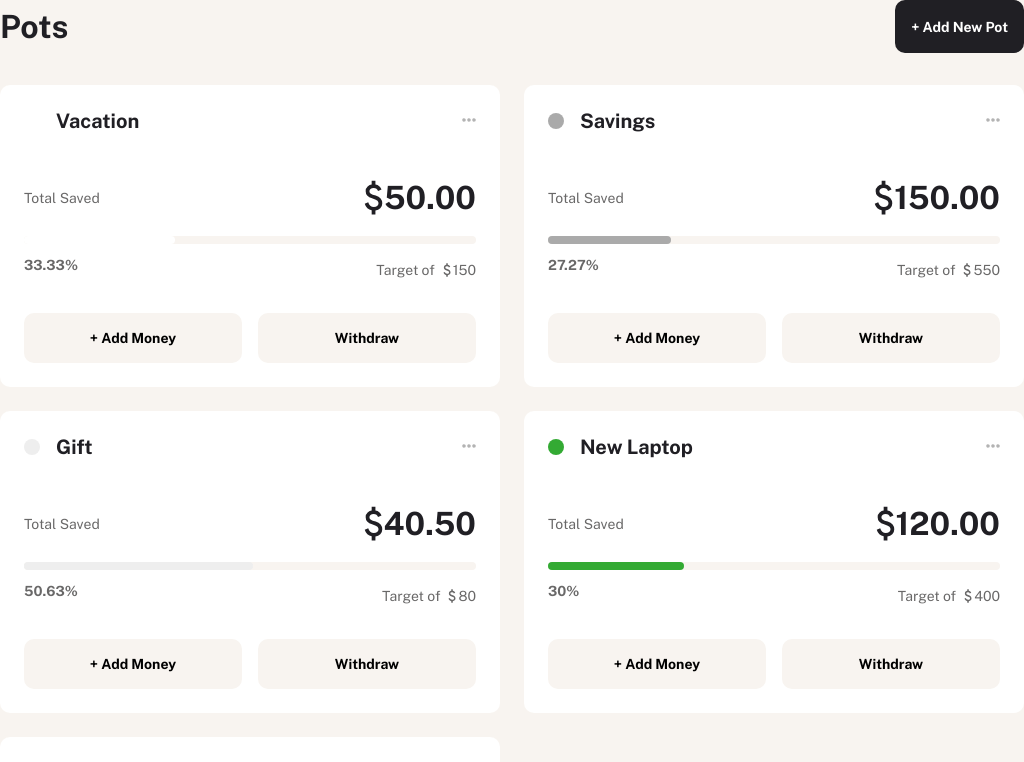
Test: pot component tests › test clicking new pot button displays new pot form
Click the button with test id "new-btn": (960, 26) 895,0 -> 1023,53
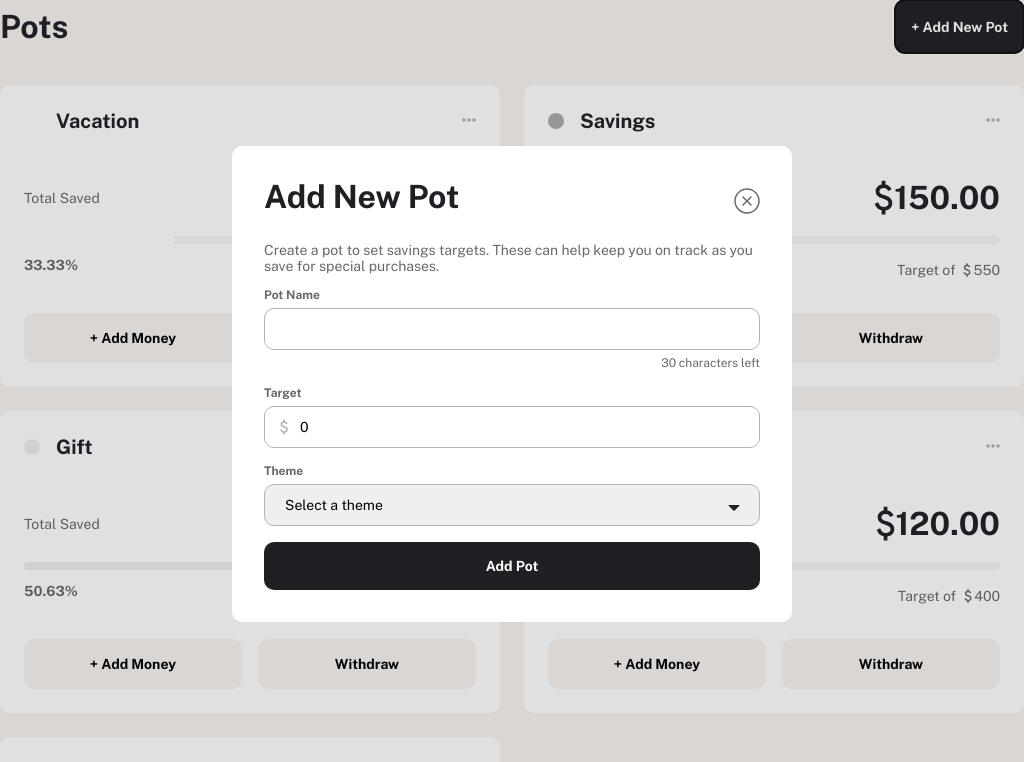
Now the form with test id "new-form" is shown, box 232,146 -> 792,622
